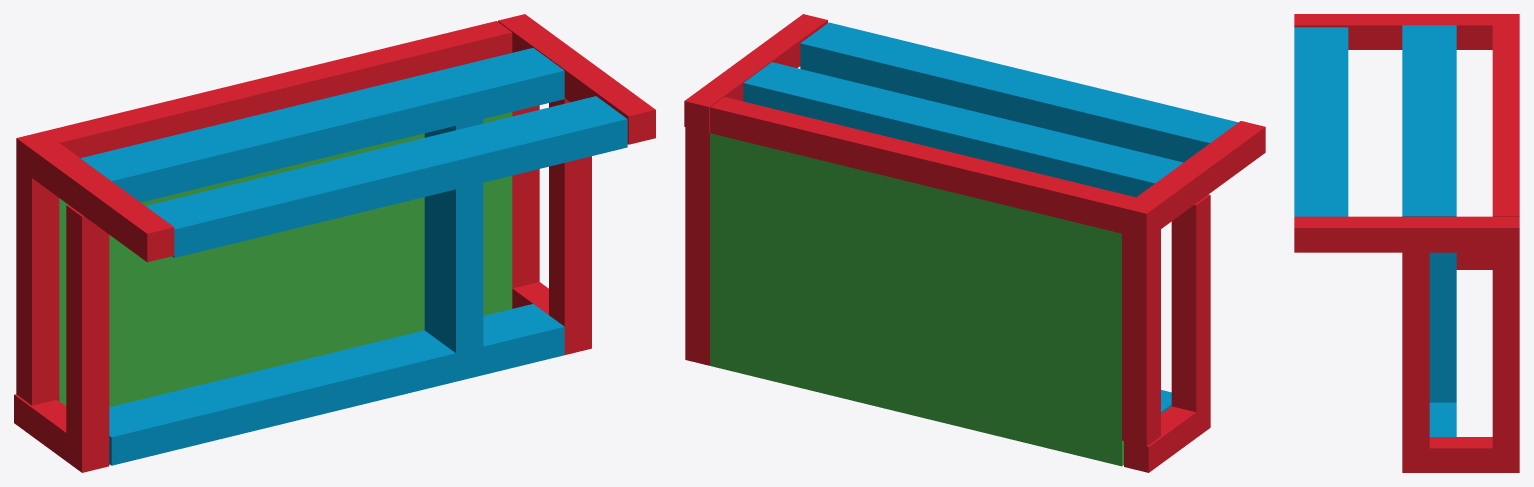
The model's file is tinker.obj.
The picture shows the model from 3 angles, left to right: view 1: azimuth 30°, elevation 25°; view 2: azimuth 150°, elevation 25°; view 3: azimuth 270°, elevation 25°; orthographic projection. The views are drawn at different scales.
Visible parts, largest first — view 1: group_0_40919, group_0_15277357, group_0_4634441; view 2: group_0_4634441, group_0_15277357, group_0_40919; view 3: group_0_15277357, group_0_40919.
Part boxes in pixels (<box>): group_0_40919: <box>80,47,627,465</box>; group_0_15277357: <box>14,14,655,472</box>; group_0_4634441: <box>57,112,512,406</box>; group_0_4634441: <box>710,133,1123,466</box>; group_0_15277357: <box>684,14,1265,472</box>; group_0_40919: <box>743,22,1238,413</box>; group_0_15277357: <box>1294,14,1519,472</box>; group_0_40919: <box>1294,25,1456,436</box>.
Size of the model in its own units: 226 by 120 by 100.
